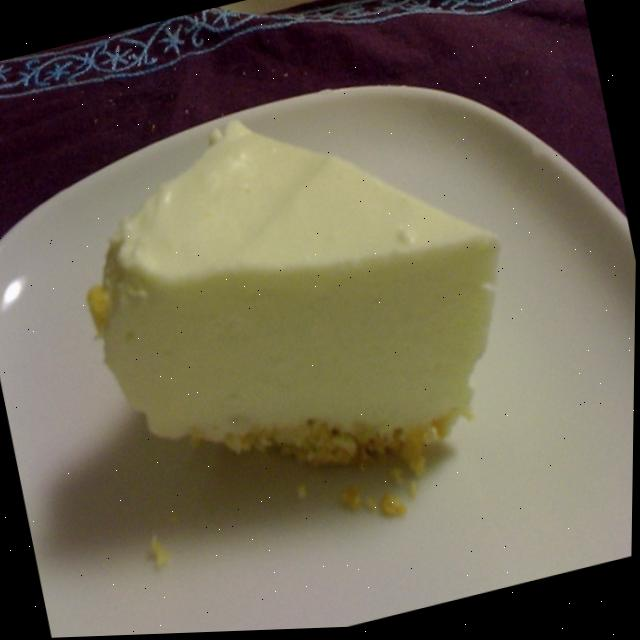蛋糕甜品: (31, 40, 567, 592)
